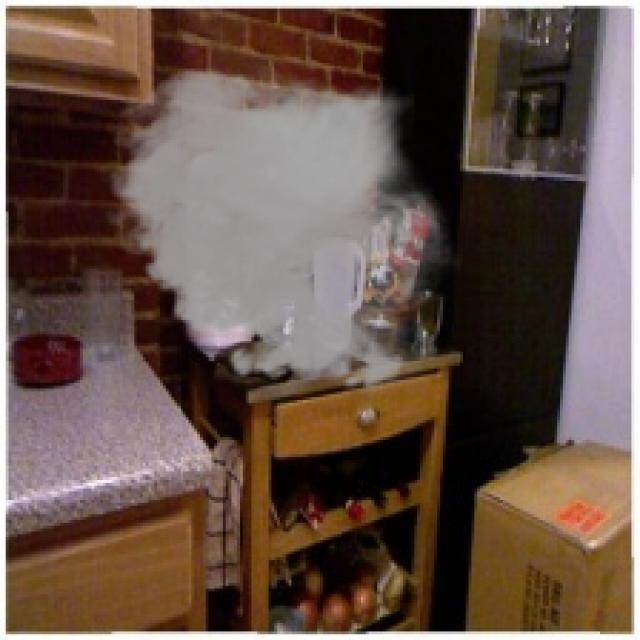smoke: (97, 57, 463, 400)
